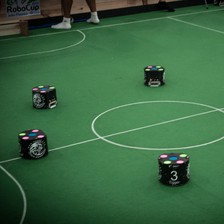robot: (154, 150, 190, 186), (15, 127, 48, 159), (30, 83, 58, 110), (141, 62, 166, 86)
